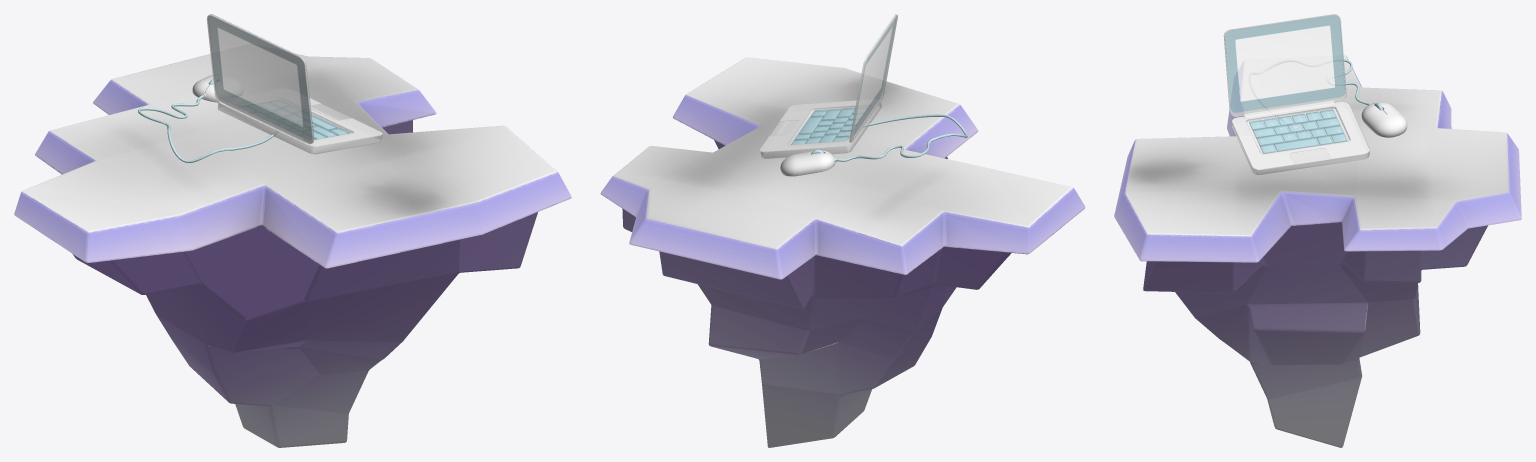
File: two.glb
3 renders of one model, left to right at view 1: azimuth 30°, elevation 25°; view 2: azimuth 150°, elevation 25°; view 3: azimuth 270°, elevation 25°, orthographic. The views are drawn at different scales.
Parts seen in each view (by area): view 1: Island_big, Laptop; view 2: Island_big, Laptop; view 3: Island_big, Laptop.
Part boxes in pixels (x1,y1,x2,y2): Island_big: (14, 44, 571, 447); Laptop: (138, 14, 382, 163); Island_big: (600, 57, 1085, 447); Laptop: (760, 14, 967, 176); Island_big: (1114, 55, 1521, 447); Laptop: (1223, 14, 1407, 175).
Size of the model in its own units: 5.89 by 5.68 by 5.38.
Materials: 4 (2 with a texture image).
